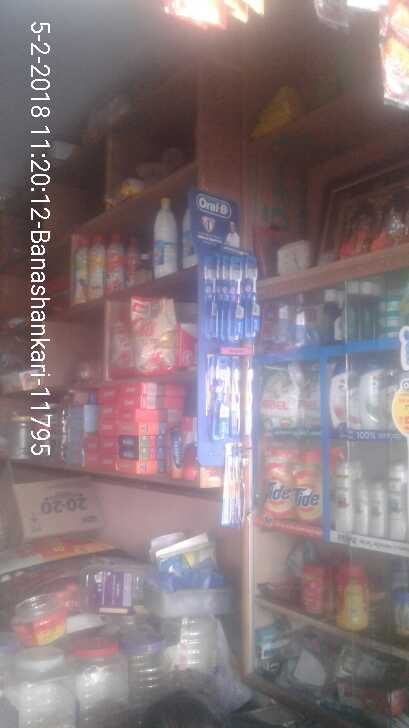beauty: (328, 451, 407, 540), (331, 358, 388, 427)
home: (253, 443, 327, 524), (258, 359, 307, 431)
pharmacy: (203, 237, 260, 347), (210, 348, 260, 436)
